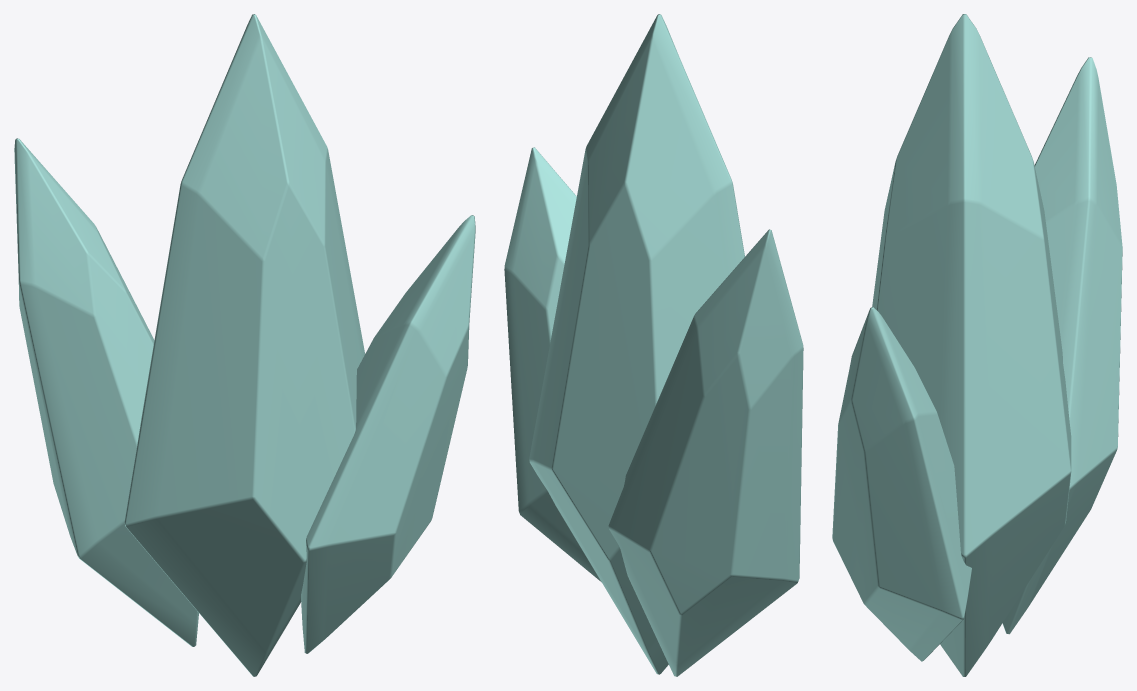
File: SM_Crystal.003.fbx
3 views of the same model, side by side, from view 1: azimuth 30°, elevation 25°; view 2: azimuth 150°, elevation 25°; view 3: azimuth 270°, elevation 25° (orthographic).
Parts seen in each view (by area): view 1: Crystal.002; view 2: Crystal.002; view 3: Crystal.002.
Part boxes in pixels (x1=…): Crystal.002: x1=14, y1=14, x2=475, y2=676; Crystal.002: x1=504, y1=14, x2=803, y2=676; Crystal.002: x1=832, y1=14, x2=1122, y2=676.
Size of the model in its own units: 63.82 by 109 by 43.29.
